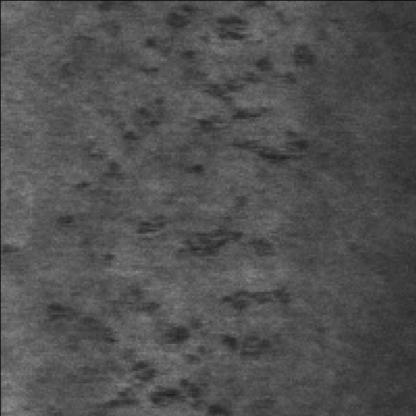rolled-in_scale: (52, 210, 293, 412), (92, 0, 320, 181)
